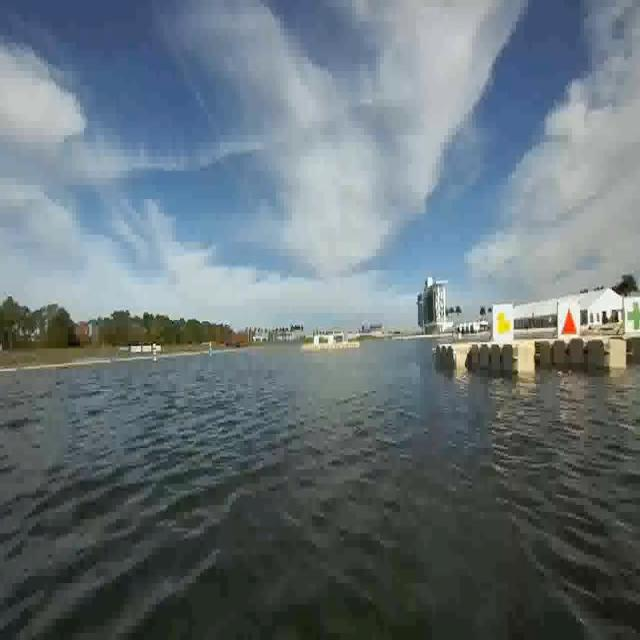blue-cross: (620, 299, 640, 336)
yellow-duck: (491, 304, 516, 346)
